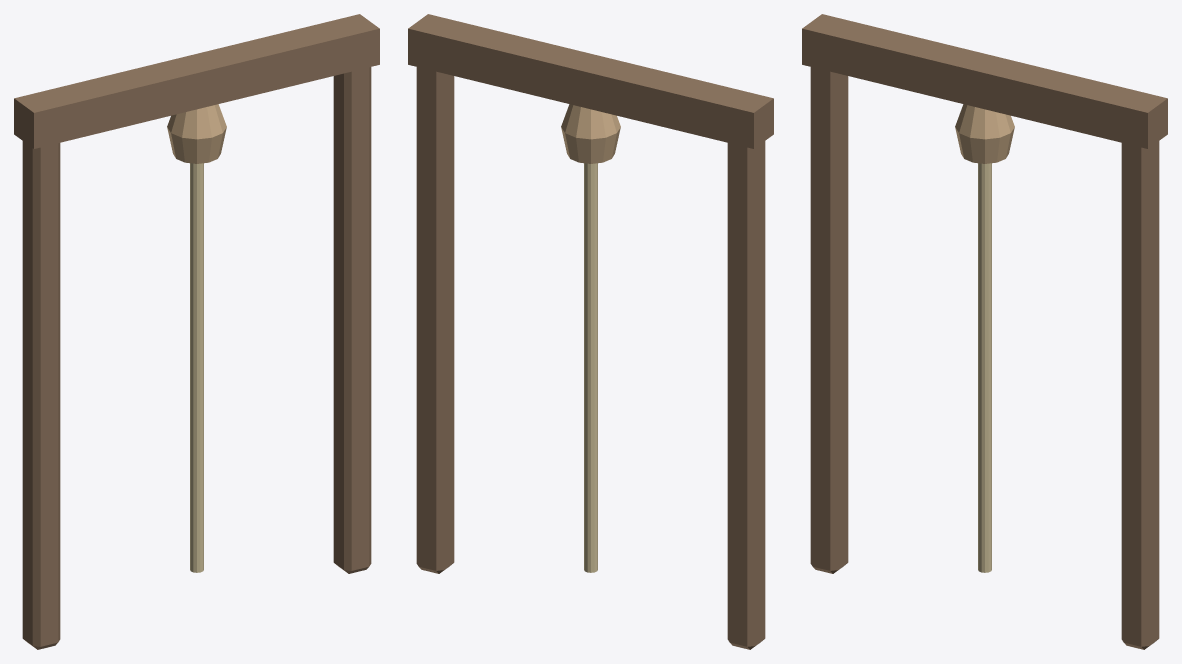
Rendered from feudal-japan-castle-town-bell-rope-frame-75279304__26379.glb.
The picture shows the model from 3 angles, left to right: view 1: azimuth 30°, elevation 25°; view 2: azimuth 150°, elevation 25°; view 3: azimuth 330°, elevation 25°; orthographic projection.
Parts seen in each view (by area): view 1: bell-rope-frame; view 2: bell-rope-frame; view 3: bell-rope-frame.
Boxes of the visible parts, <box> form: bell-rope-frame: <box>14,14,379,649</box>; bell-rope-frame: <box>408,14,773,649</box>; bell-rope-frame: <box>802,14,1167,649</box>.
Size of the model in its own units: 2 by 3 by 0.3.
